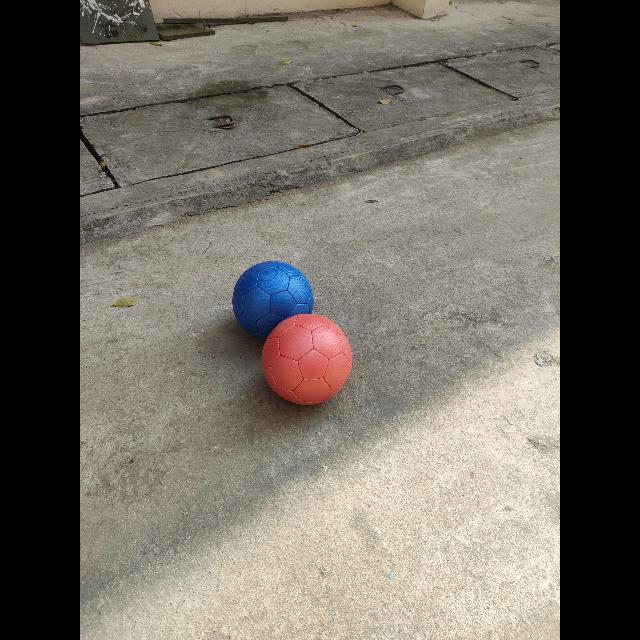B: (232, 261, 314, 340)
R: (261, 314, 352, 405)
